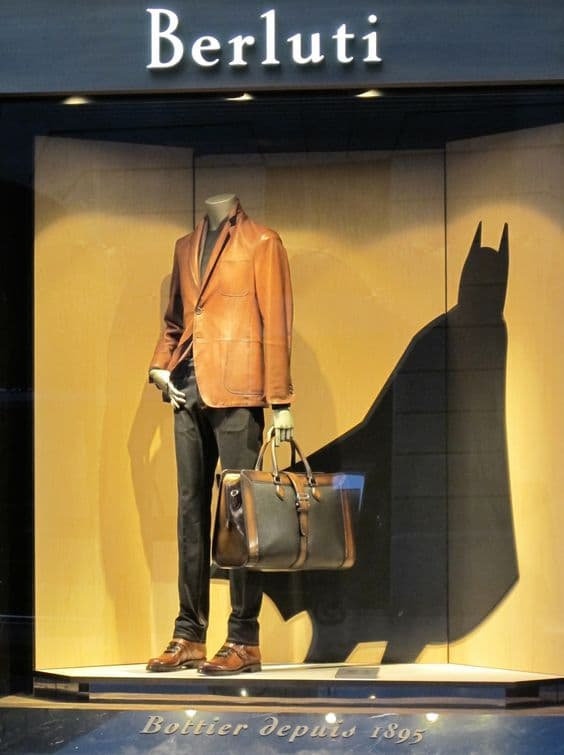person-like: (142, 189, 302, 679)
